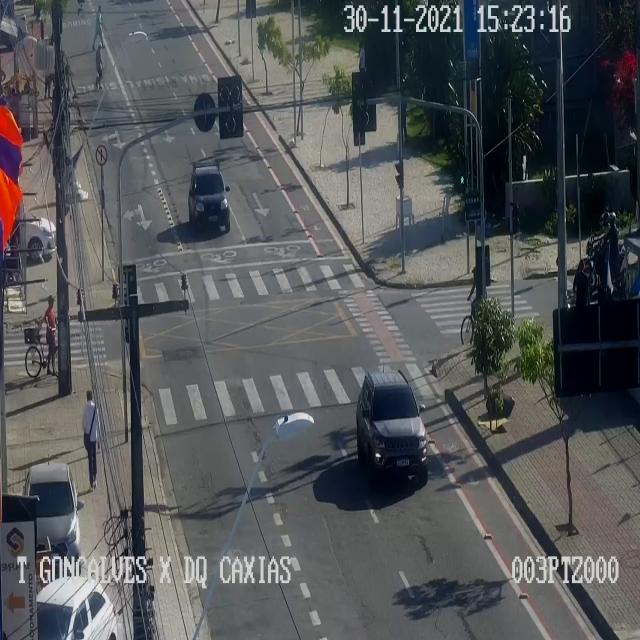Car: (356, 364, 428, 486), (22, 462, 84, 566), (37, 577, 117, 639), (15, 206, 67, 268), (187, 159, 230, 231)
Motorcycle: (578, 210, 628, 298)
